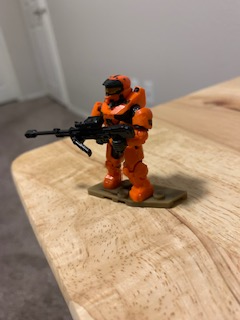spartan: (86, 72, 155, 203)
